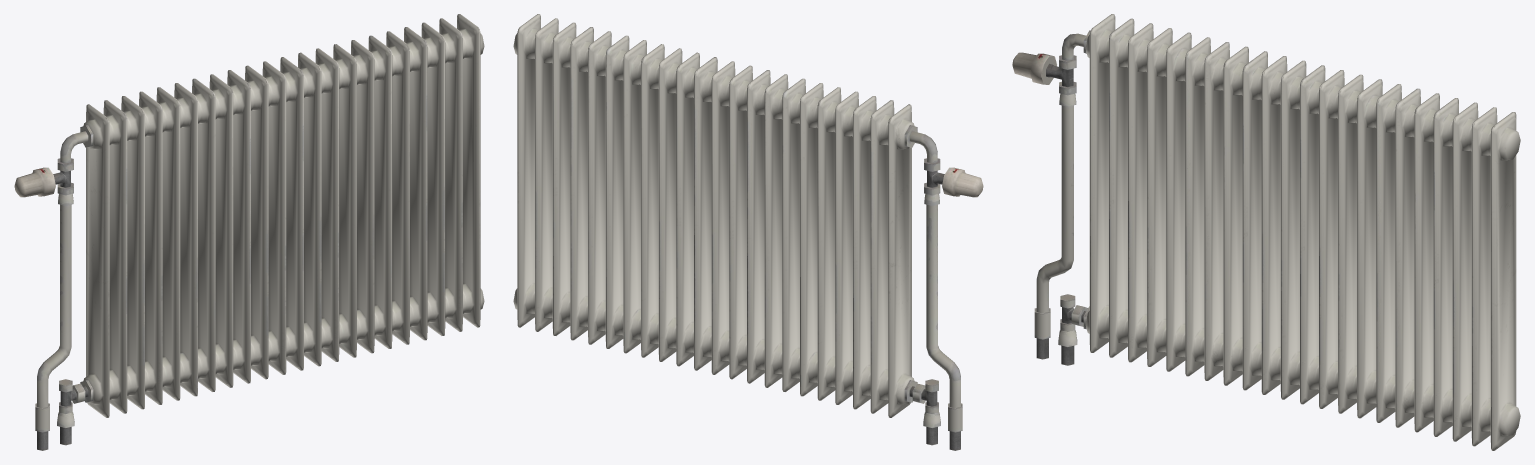
3 views of the same model, side by side, from view 1: azimuth 30°, elevation 25°; view 2: azimuth 150°, elevation 25°; view 3: azimuth 330°, elevation 25° (orthographic). The views are drawn at different scales.
Parts seen in each view (by area): view 1: Complete; view 2: Complete; view 3: Complete.
Part boxes in pixels (x1,y1,x2,y2): Complete: (14,14,484,450); Complete: (513,14,983,450); Complete: (1012,14,1520,450).
Bounding box in the file's own units: 0.9093 × 0.611 × 0.0757.
Materials: 1 (1 with a texture image).
